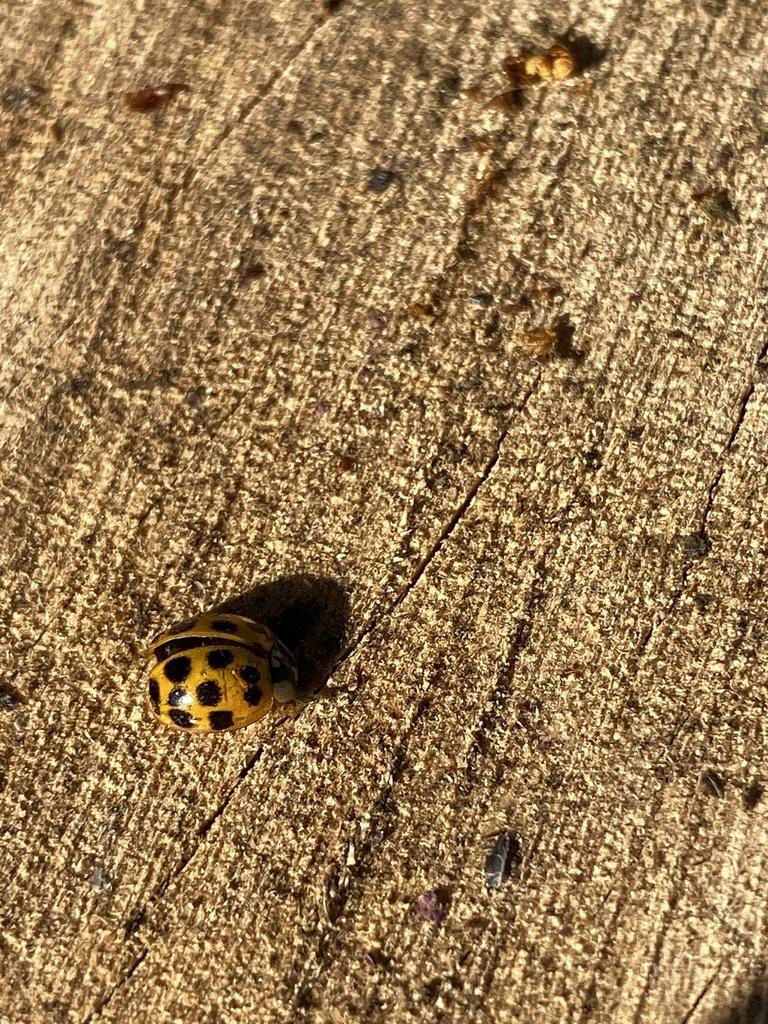ladybug: (141, 611, 309, 736)
